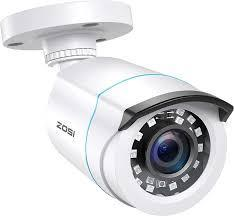tutu: (37, 53, 234, 216)
